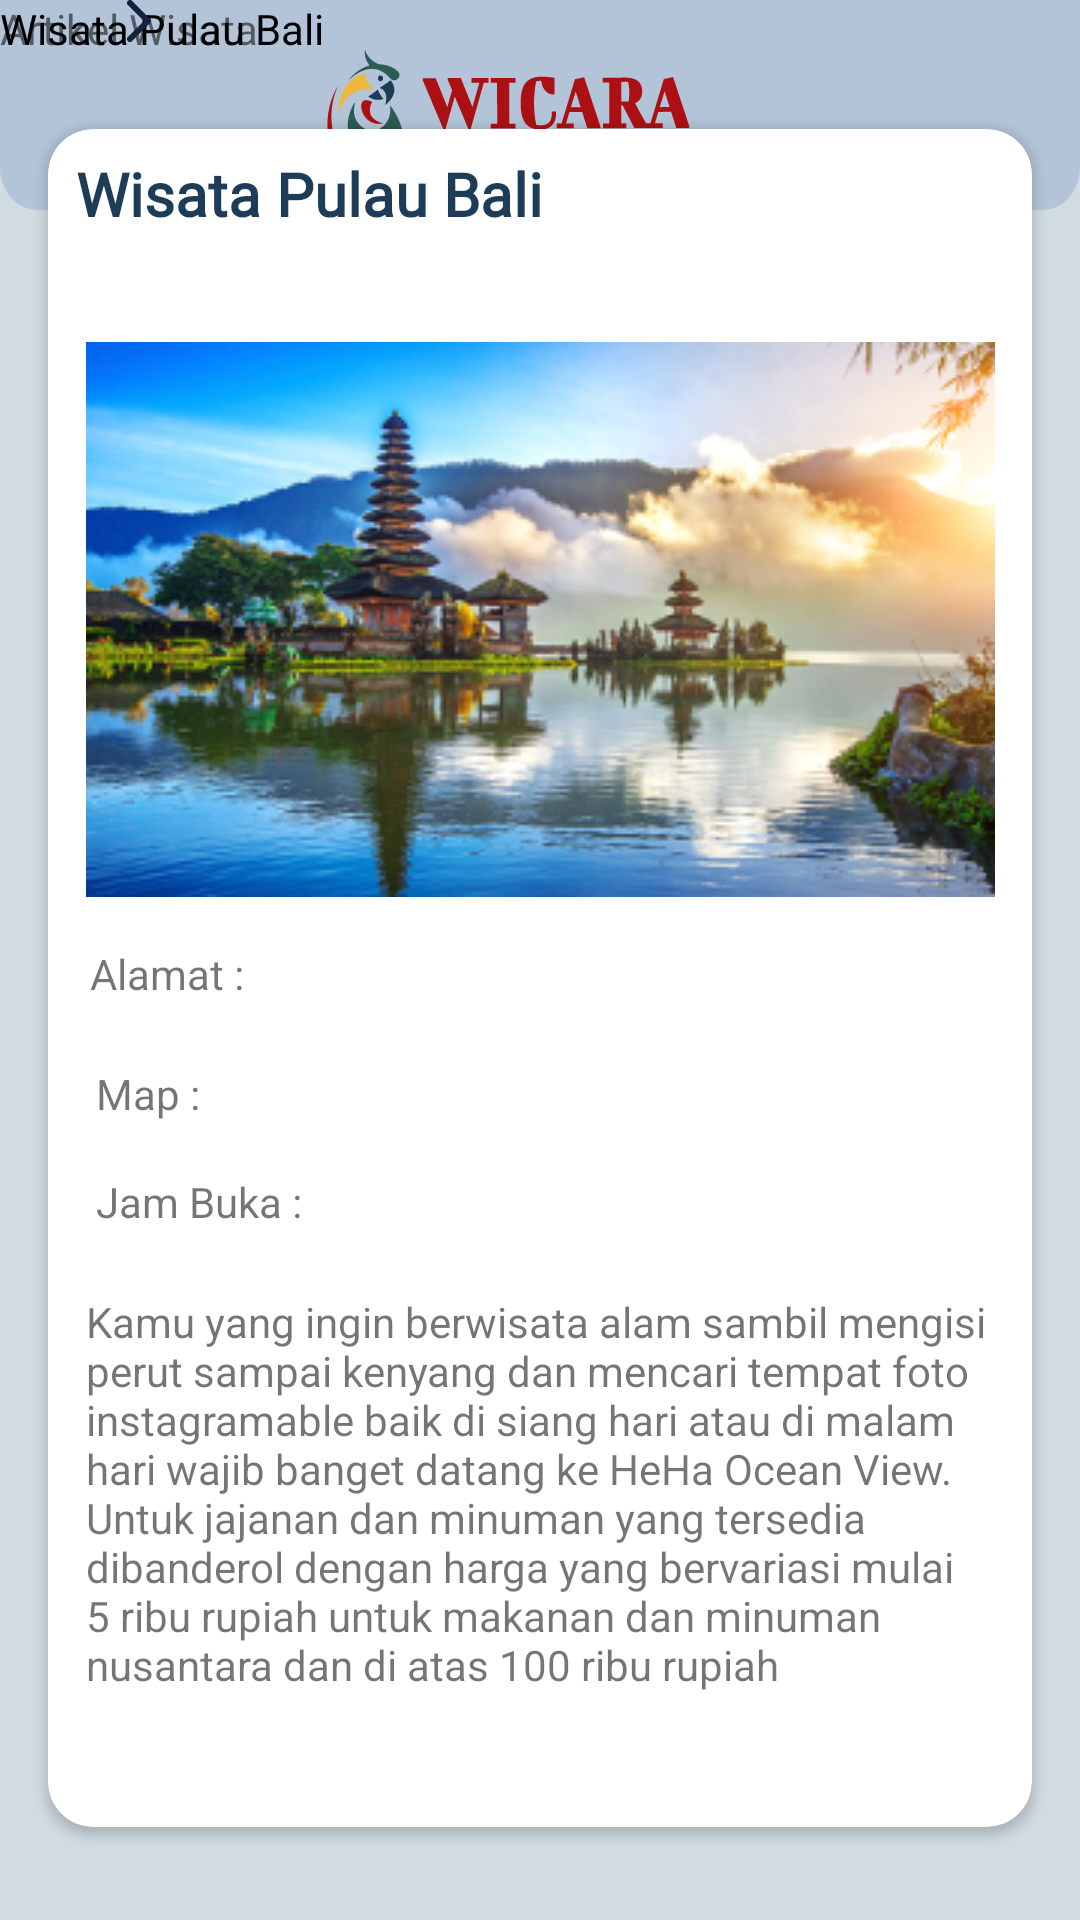

Screen size 1080x1920. Icon name, then its box in pixels as (x1, y1, x2, y2):
next: (127, 0, 151, 42)
